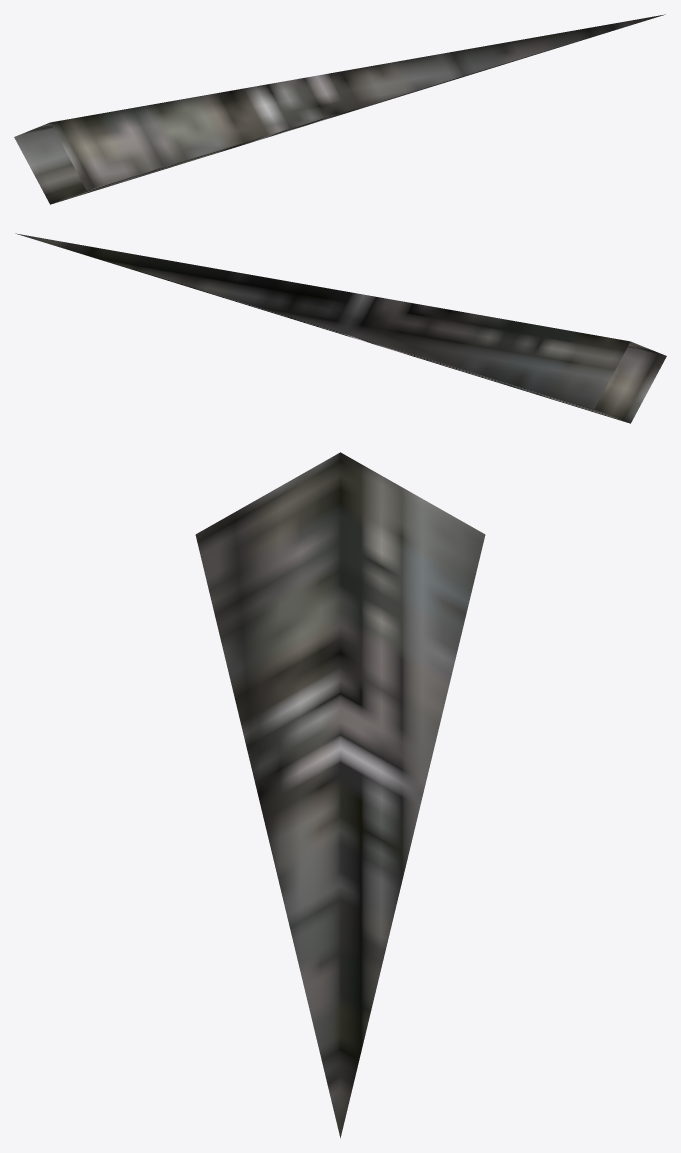
File: lambda_strut_l_l3.fbx
3 views of the same model, one above another, from view 1: azimuth 30°, elevation 25°; view 2: azimuth 150°, elevation 25°; view 3: azimuth 270°, elevation 25° (orthographic). The views are drawn at different scales.
Visible parts, largest first — view 1: mesh_node; view 2: mesh_node; view 3: mesh_node.
Boxes of the visible parts, box(x1,y1,x2,y2) form: mesh_node: box(14, 14, 665, 204); mesh_node: box(15, 233, 666, 423); mesh_node: box(195, 452, 485, 1138).
Size of the model in its own units: 3.21 by 0.4092 by 0.6535.
